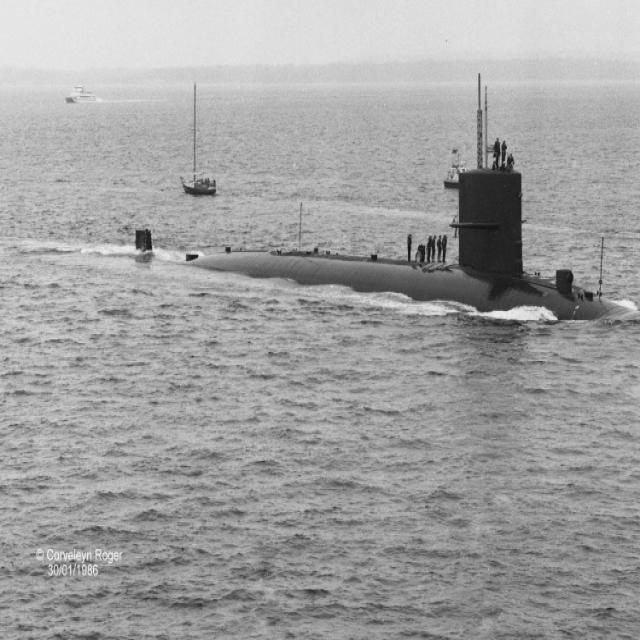submarine: (134, 83, 633, 321)
